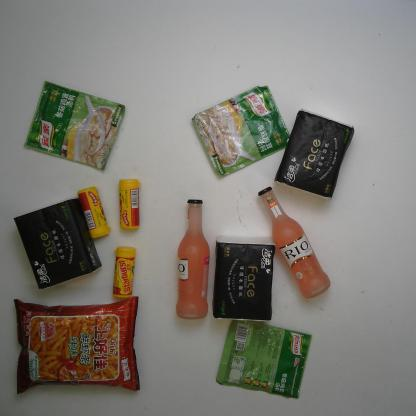Alcohol: (257, 186, 331, 299), (176, 199, 210, 320)
Candy: (77, 186, 111, 240), (112, 246, 136, 299), (118, 179, 142, 230)
Puffed Food: (13, 296, 141, 395)
Seasoner: (23, 80, 126, 172), (191, 84, 290, 176), (216, 319, 313, 400)
Tissue: (13, 196, 102, 290), (274, 108, 354, 202), (212, 236, 276, 321)
